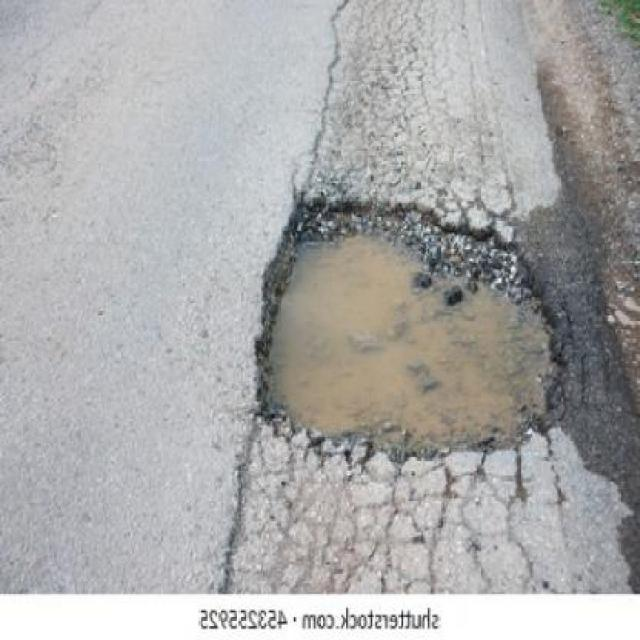Pothole: (242, 183, 582, 468)
